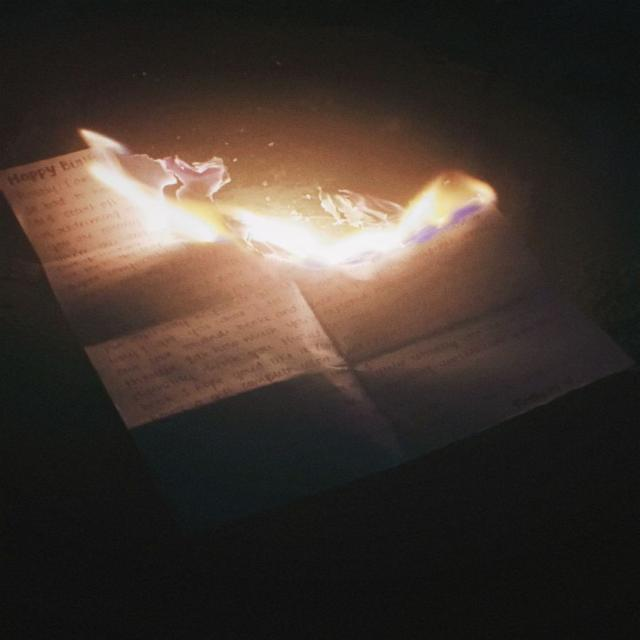fire: (83, 128, 491, 270)
